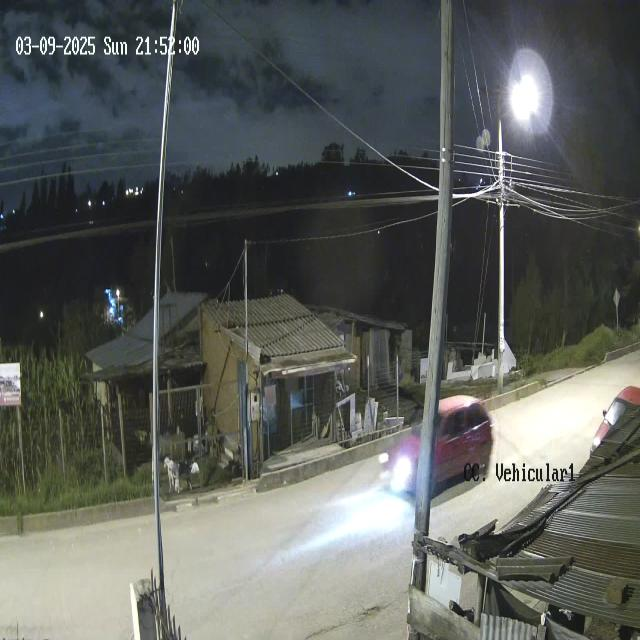SED: (376, 390, 492, 510)
